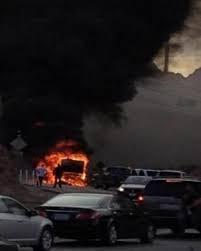fire: (21, 130, 105, 192)
